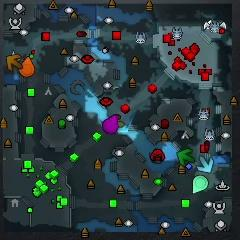p2: (191, 175, 210, 196)
p3: (104, 115, 119, 133)
p5: (19, 57, 34, 79)
x3: (196, 156, 214, 174)
x4: (178, 147, 196, 167)
x5: (6, 54, 23, 73)
